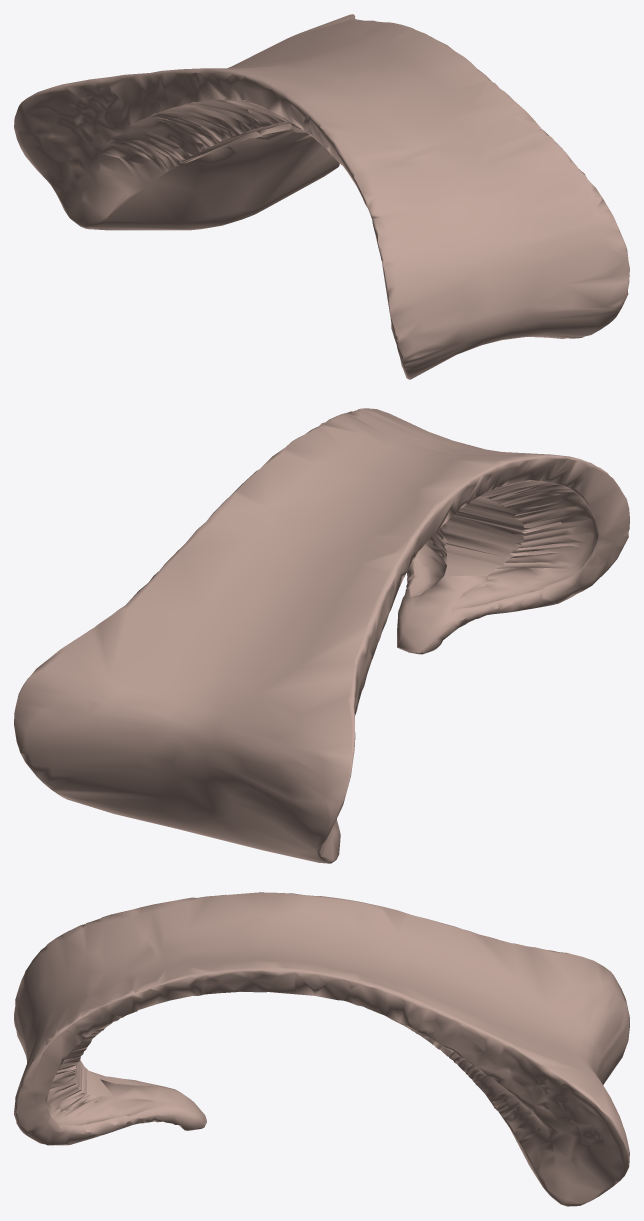
The model's file is corpus-callosum.glb.
3 views of the same model, one above another, from view 1: azimuth 30°, elevation 25°; view 2: azimuth 150°, elevation 25°; view 3: azimuth 270°, elevation 25° (orthographic). The views are drawn at different scales.
Visible parts, largest first — view 1: FJ1742 Corpus callosum; view 2: FJ1742 Corpus callosum; view 3: FJ1742 Corpus callosum.
Boxes of the visible parts, bbox=[...] form: FJ1742 Corpus callosum: bbox=[14, 14, 629, 379]; FJ1742 Corpus callosum: bbox=[14, 408, 629, 863]; FJ1742 Corpus callosum: bbox=[14, 892, 629, 1206].
Size of the model in its own units: 0.0517 by 0.0389 by 0.0916.
